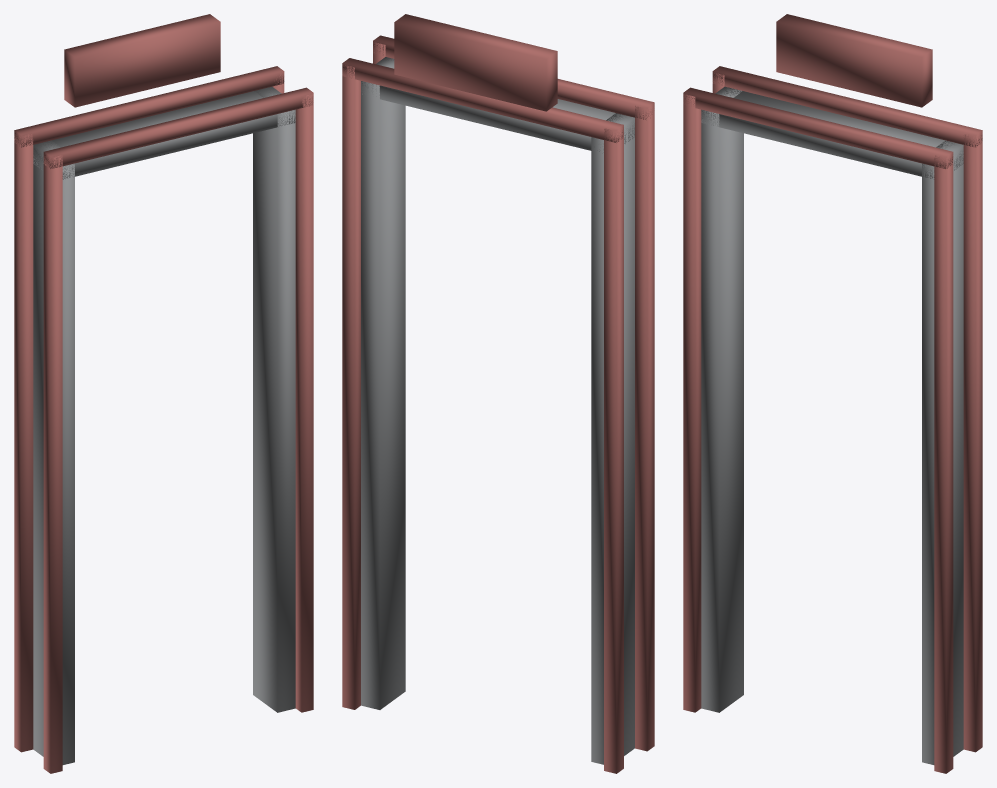
Rendered from doorway_emergency_exit_w76_h210_d16.glb.
3 renders of one model, left to right at view 1: azimuth 30°, elevation 25°; view 2: azimuth 150°, elevation 25°; view 3: azimuth 330°, elevation 25°, orthographic. The views are drawn at different scales.
Parts seen in each view (by area): view 1: world; view 2: world; view 3: world.
Part boxes in pixels (x1,y1,x2,y2): world: (14, 14, 313, 773); world: (342, 14, 654, 773); world: (683, 14, 982, 773).
Bounding box in the file's own units: 0.9868 × 2.43 × 0.2932.
